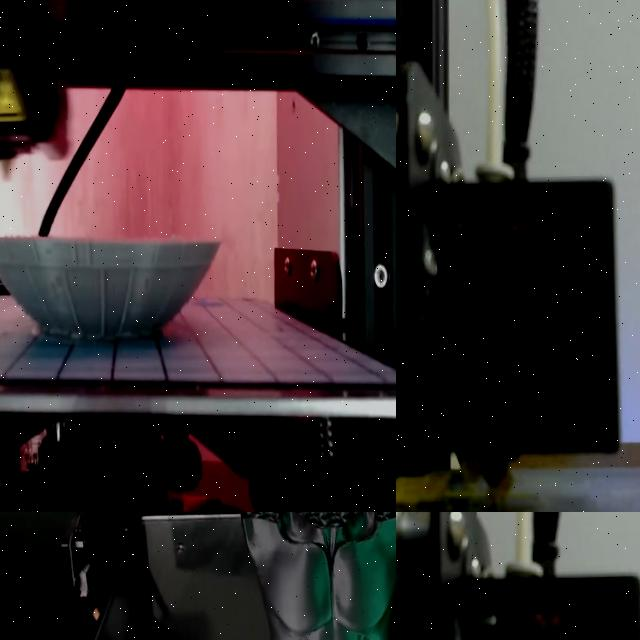spaghetti: (396, 457, 482, 505), (488, 467, 513, 503)
